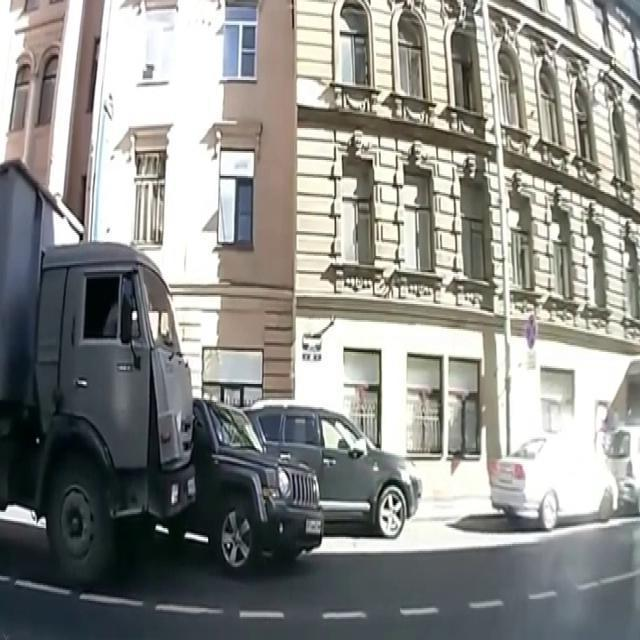multiple_accident: (0, 0, 340, 610), (137, 379, 307, 564)
